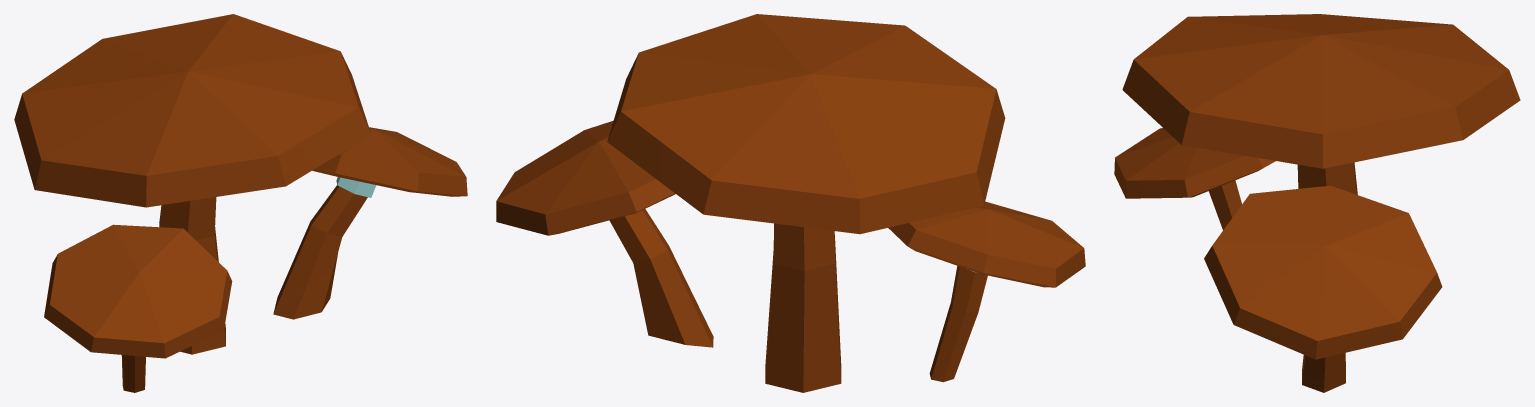
Rendered from Mushroom_e_b_02.fbx.
3 views of the same model, side by side, from view 1: azimuth 30°, elevation 25°; view 2: azimuth 150°, elevation 25°; view 3: azimuth 270°, elevation 25° (orthographic). The views are drawn at different scales.
Visible parts, largest first — view 1: Mushroom_e_b_02_LOD0; view 2: Mushroom_e_b_02_LOD0; view 3: Mushroom_e_b_02_LOD0.
Boxes of the visible parts, bbox=[...] form: Mushroom_e_b_02_LOD0: bbox=[14, 14, 467, 392]; Mushroom_e_b_02_LOD0: bbox=[496, 14, 1085, 392]; Mushroom_e_b_02_LOD0: bbox=[1114, 14, 1520, 392].
Size of what is drawn, in the model's own units: 21.63 by 12.56 by 15.77.
